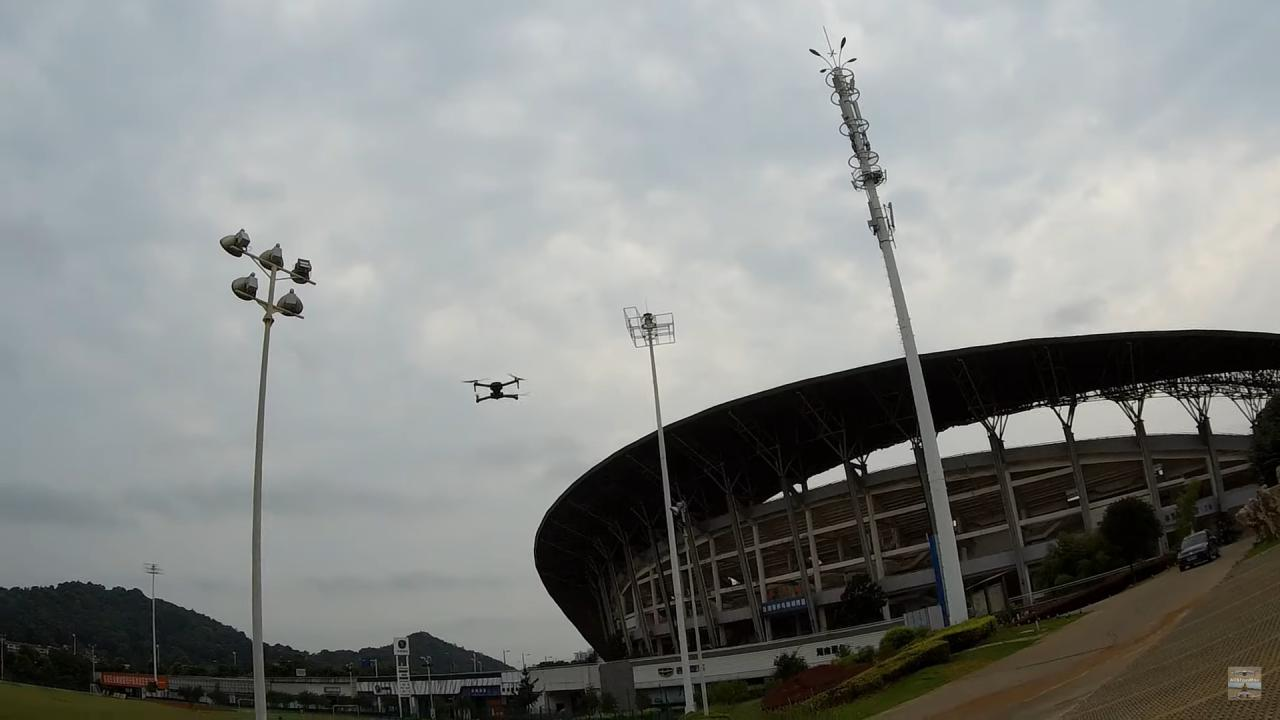Drone: (454, 366, 539, 413)
